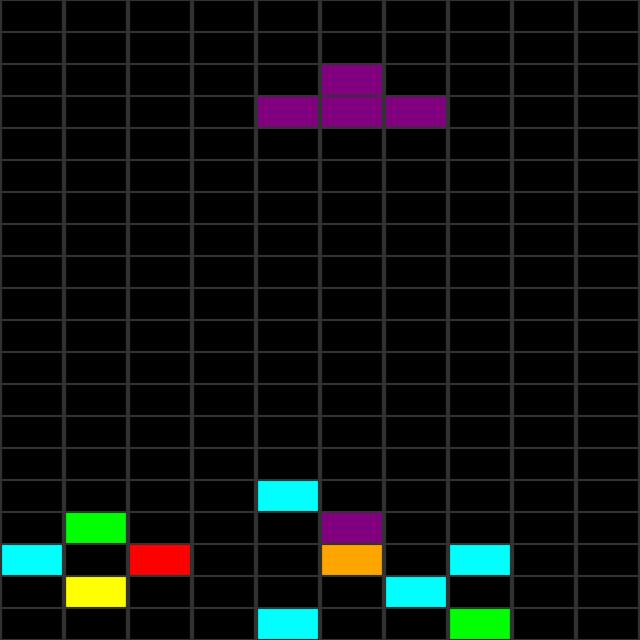Tetrimino_J: (251, 65, 445, 126)
